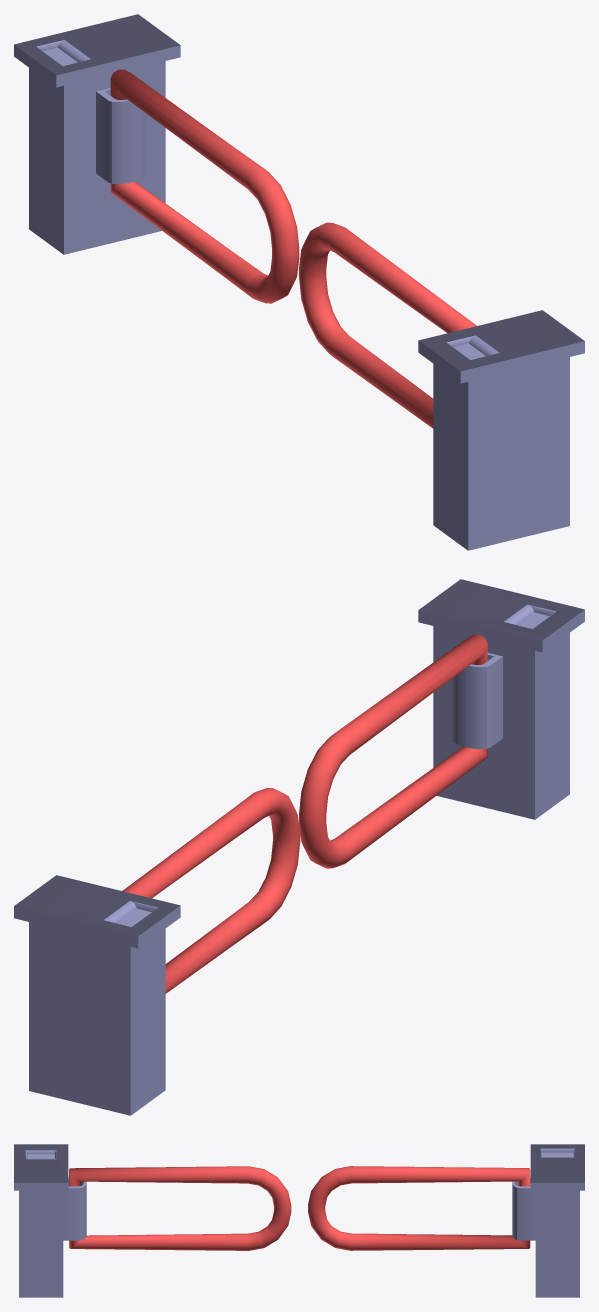
Rendered from Barrier1.5.fbx.
The picture shows the model from 3 angles, top to bottom: view 1: azimuth 30°, elevation 25°; view 2: azimuth 150°, elevation 25°; view 3: azimuth 270°, elevation 25°; orthographic projection. The views are drawn at different scales.
Parts seen in each view (by area): view 1: Right, Left, LeftDoor, RightDoor; view 2: Left, Right, RightDoor, LeftDoor; view 3: Left, Right, LeftDoor, RightDoor.
Part boxes in pixels (bbox=[...]): Right: bbox=[418, 310, 584, 550]; Left: bbox=[14, 14, 180, 254]; LeftDoor: bbox=[110, 69, 299, 303]; RightDoor: bbox=[299, 222, 476, 428]; Left: bbox=[14, 875, 180, 1115]; Right: bbox=[418, 579, 584, 819]; RightDoor: bbox=[299, 634, 487, 868]; LeftDoor: bbox=[122, 788, 300, 993]; Left: bbox=[512, 1144, 584, 1297]; Right: bbox=[14, 1144, 86, 1297]; LeftDoor: bbox=[308, 1166, 530, 1250]; RightDoor: bbox=[69, 1166, 291, 1250].
Bounding box in the file's own units: 62.94 × 89.53 × 392.
1 material, 1 textured.
